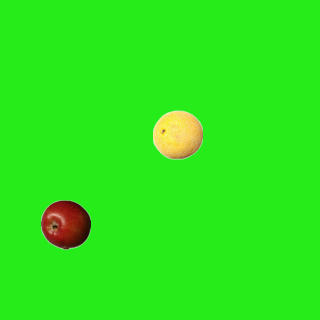Apple Braeburn: (40, 199, 90, 249)
Cantaloupe 1: (152, 109, 202, 159)
